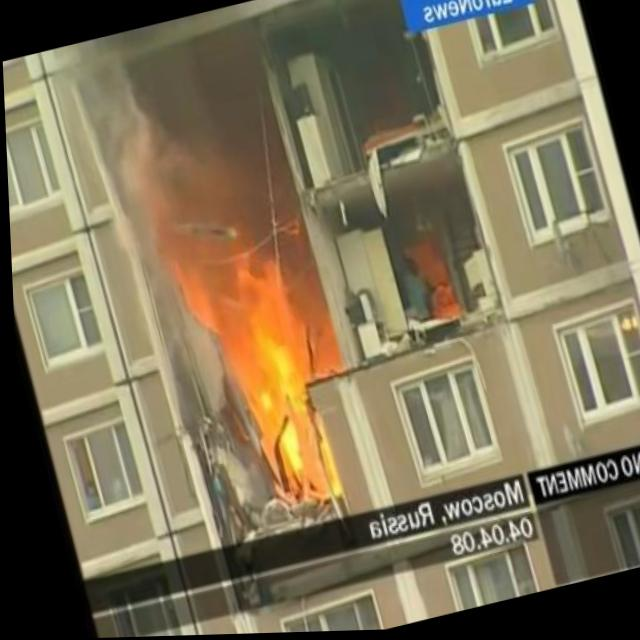fire: (192, 213, 330, 507)
